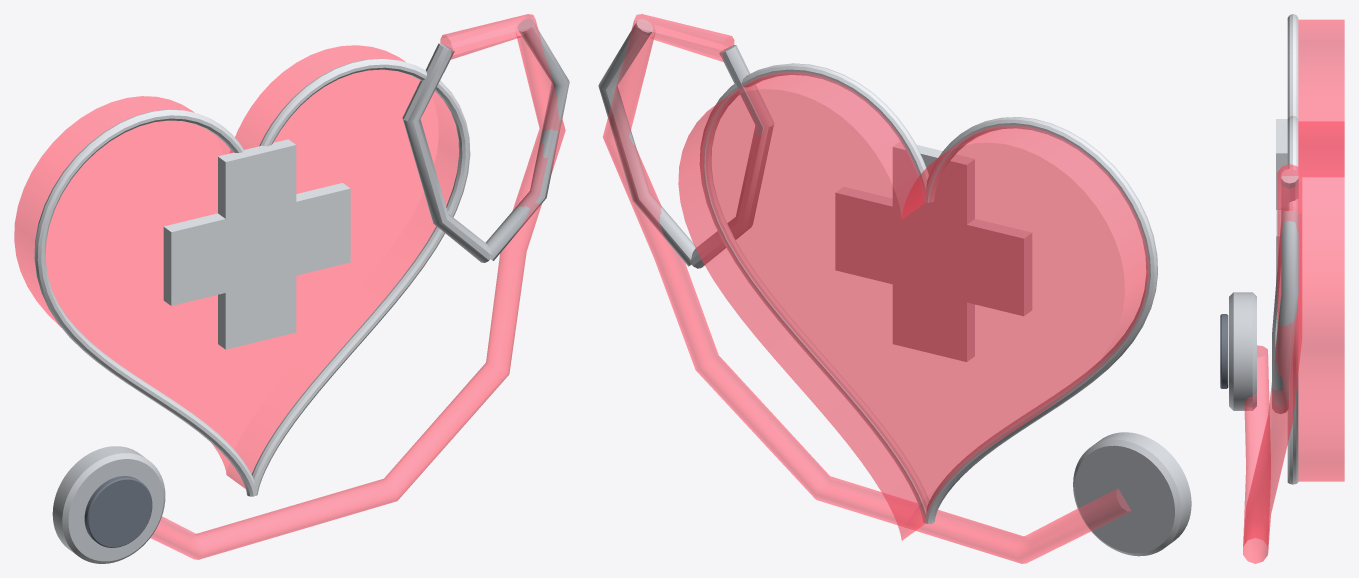
The model's file is 47-healthcare.glb.
The picture shows the model from 3 angles, left to right: view 1: azimuth 30°, elevation 25°; view 2: azimuth 150°, elevation 25°; view 3: azimuth 270°, elevation 25°; orthographic projection. The views are drawn at different scales.
Visible parts, largest first — view 1: BC ruby optical glass, BC polished silver metal, BC satin silver metal, BC dark brushed metal; view 2: BC ruby optical glass, BC polished silver metal, BC satin silver metal; view 3: BC ruby optical glass, BC satin silver metal, BC polished silver metal, BC dark brushed metal.
Boxes of the visible parts, <box> form: BC ruby optical glass: <box>14,14,565,559</box>; BC polished silver metal: <box>34,58,470,496</box>; BC satin silver metal: <box>52,18,569,563</box>; BC dark brushed metal: <box>84,476,152,547</box>; BC ruby optical glass: <box>603,14,1148,563</box>; BC polished silver metal: <box>700,63,1157,523</box>; BC satin silver metal: <box>598,19,1191,556</box>; BC ruby optical glass: <box>1243,19,1344,563</box>; BC satin silver metal: <box>1229,169,1298,413</box>; BC polished silver metal: <box>1276,14,1298,484</box>; BC dark brushed metal: <box>1220,314,1228,388</box>.
Size of the model in its own units: 1.97 by 1.57 by 0.3975.
